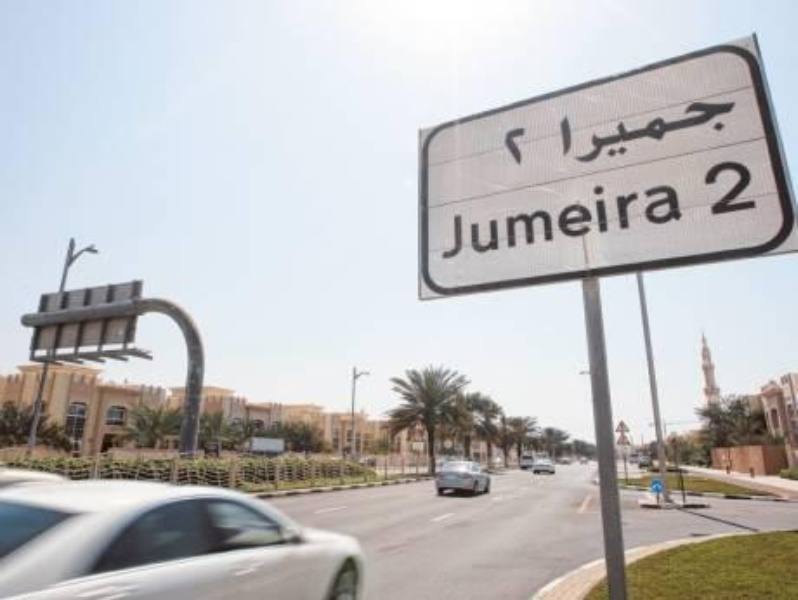text: (449, 170, 464, 262), (465, 170, 480, 262), (481, 170, 496, 262), (497, 170, 512, 262), (513, 170, 528, 262), (529, 170, 544, 262), (545, 170, 560, 262), (561, 170, 576, 262), (577, 170, 592, 262), (593, 170, 608, 262), (609, 170, 624, 262), (625, 170, 640, 262), (641, 170, 656, 262), (657, 170, 672, 262), (673, 170, 688, 262), (561, 94, 576, 170), (577, 94, 592, 170), (593, 94, 608, 170), (609, 94, 624, 170), (625, 94, 640, 170), (641, 94, 656, 170), (657, 94, 672, 170), (673, 94, 688, 170), (689, 94, 704, 170), (705, 94, 720, 170), (721, 94, 736, 170), (705, 160, 720, 216), (721, 160, 736, 216), (737, 160, 752, 216), (513, 122, 528, 170), (498, 122, 512, 170), (557, 94, 560, 170), (700, 160, 704, 216), (753, 160, 757, 216), (446, 170, 448, 262), (689, 170, 691, 262), (737, 94, 738, 170), (529, 122, 530, 170)
